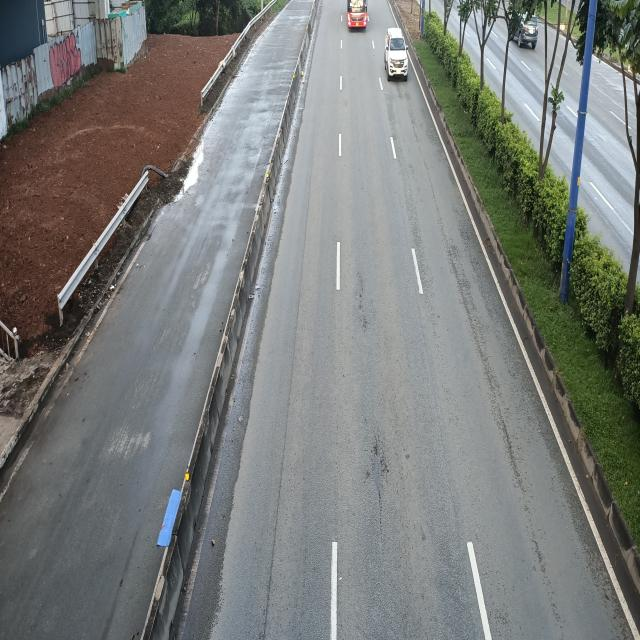car: (383, 27, 409, 80)
coach: (346, 0, 369, 29)
